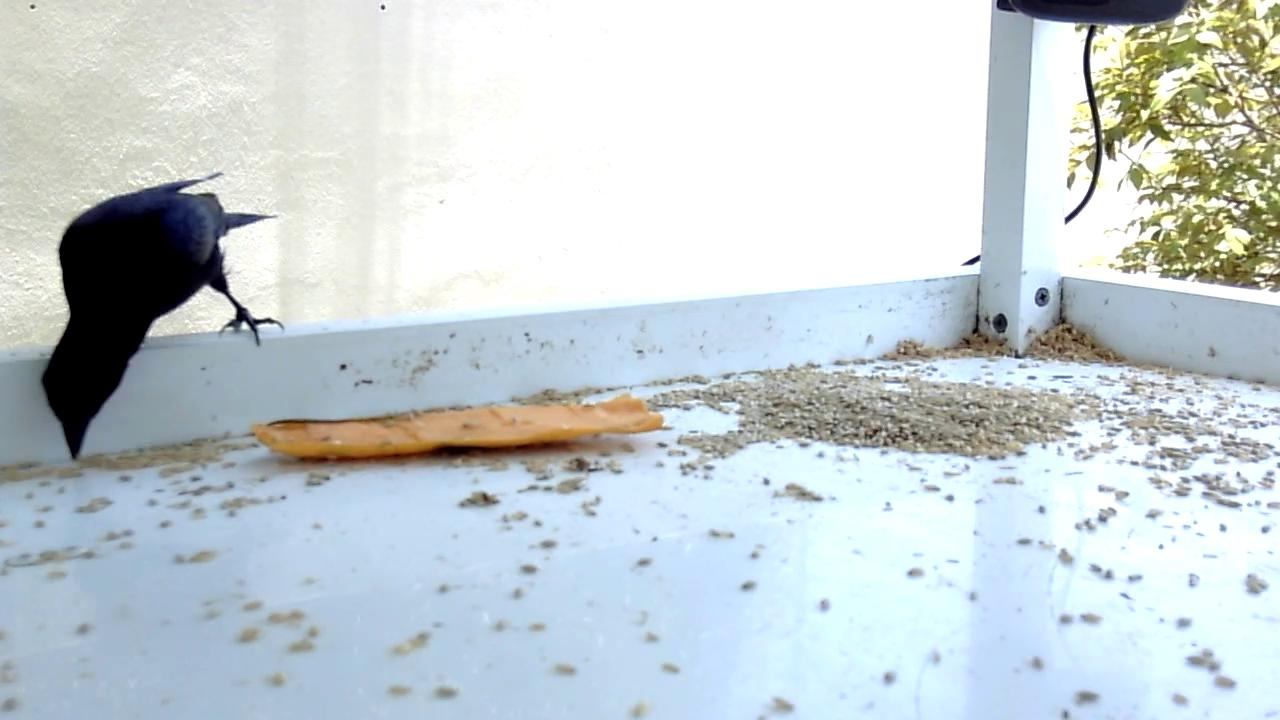chupim: (40, 167, 284, 466)
